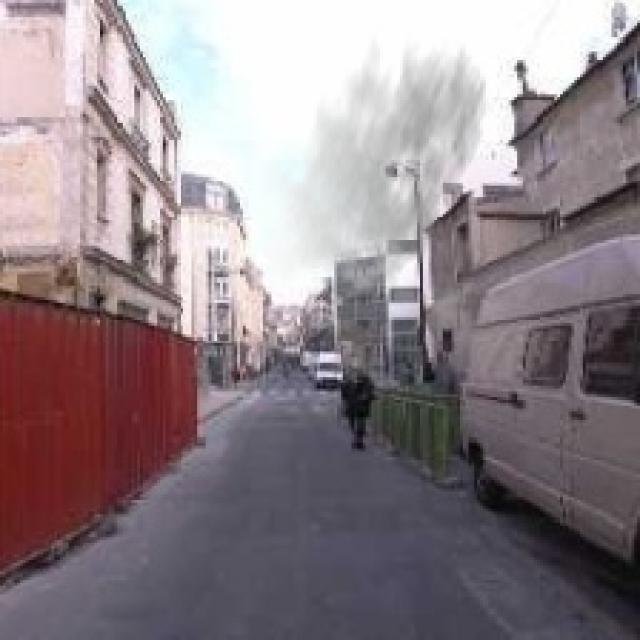Smoke: (257, 23, 489, 303)
